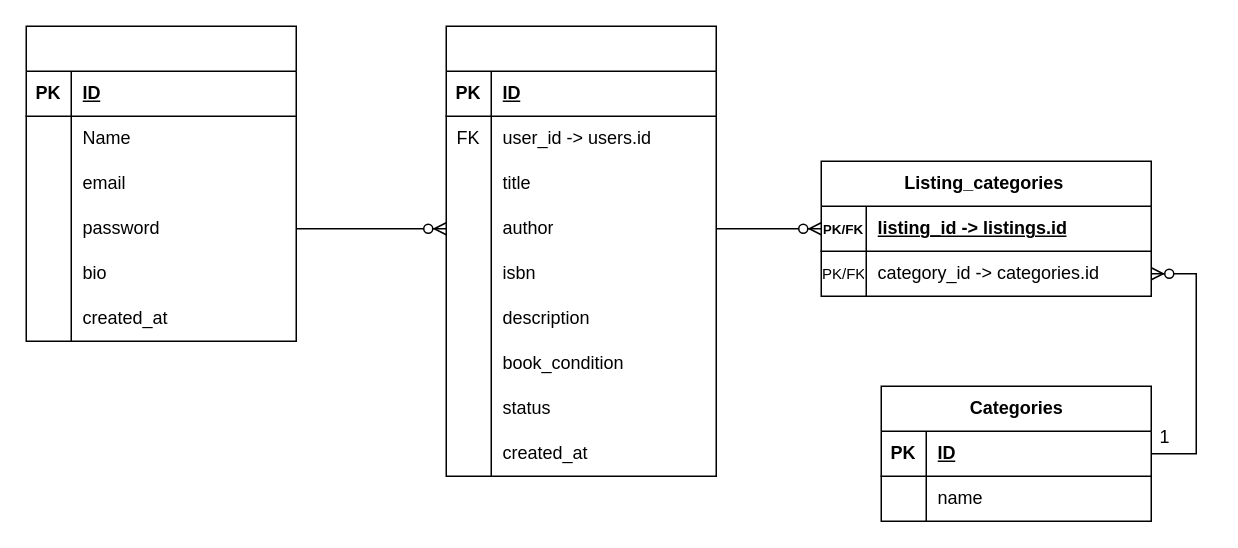
Some shapes in this 1238 by 548 pixel diagram are drawn without their labels. The box of each missing label's shape, as (x1, y1, x2, y2) in pixels:
Listings: (445, 25, 716, 476)
Users: (25, 25, 296, 341)
